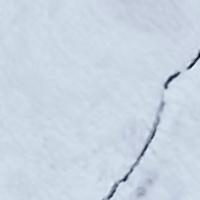crack: (94, 44, 199, 199)
